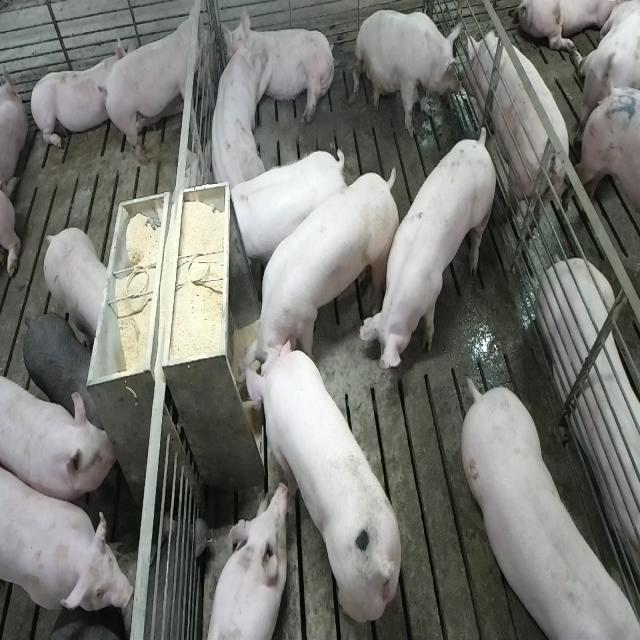Feeding: (240, 334, 404, 624), (241, 158, 406, 383)
Sitting: (354, 8, 464, 138), (207, 11, 265, 190)
Standing: (465, 382, 640, 640), (360, 126, 498, 382), (464, 32, 576, 246), (1, 456, 135, 618), (100, 0, 208, 168), (226, 146, 350, 280), (3, 369, 117, 505), (23, 310, 100, 426), (43, 227, 109, 346), (34, 608, 130, 640)
Sternal_lying: (540, 262, 640, 606), (202, 482, 288, 640), (29, 40, 120, 154)
